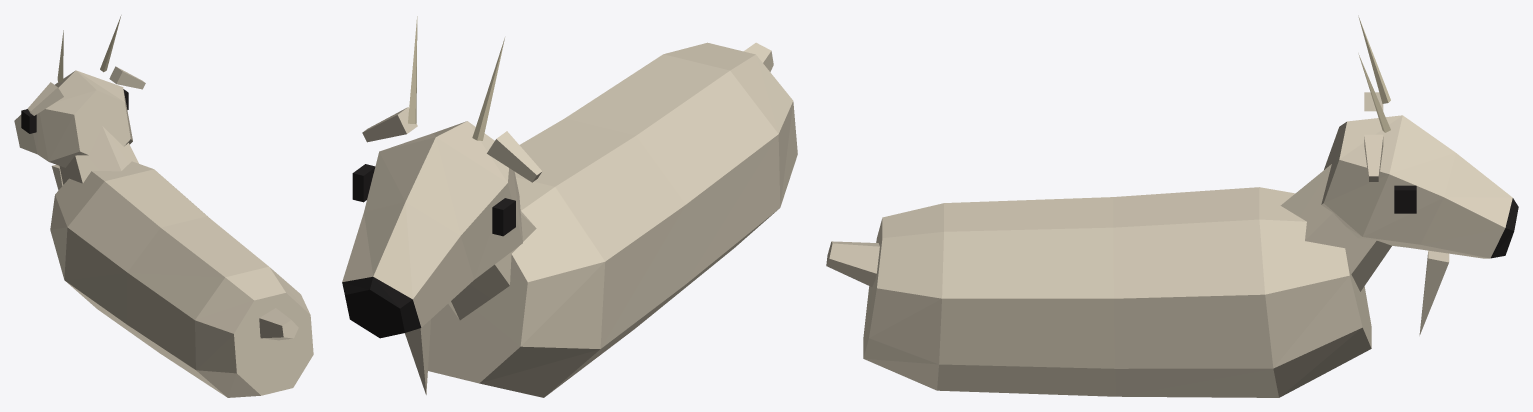
Rendered from animal_goat.obj.
3 views of the same model, side by side, from view 1: azimuth 30°, elevation 25°; view 2: azimuth 150°, elevation 25°; view 3: azimuth 270°, elevation 25° (orthographic). The views are drawn at different scales.
Parts seen in each view (by area): view 1: animal_goat; view 2: animal_goat; view 3: animal_goat.
Boxes of the visible parts, left/top/right/bottom form: animal_goat: left=14, top=15, right=313, bottom=397; animal_goat: left=342, top=16, right=797, bottom=397; animal_goat: left=826, top=15, right=1518, bottom=397.
Bounding box in the file's own units: 0.2756 × 0.5734 × 1.03.
